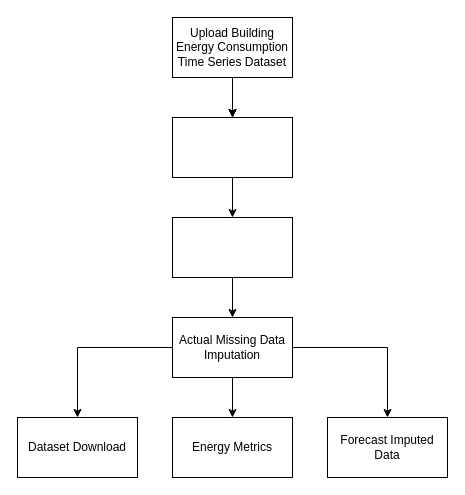
The diagram is 465 pixels wide and 495 high, and some of its shapes have lost their labels. Each missing label, with the box of its shape:
Masked Data Imputation Evaluation: (172, 216, 292, 278)
Preprocess Data: (172, 116, 292, 178)
